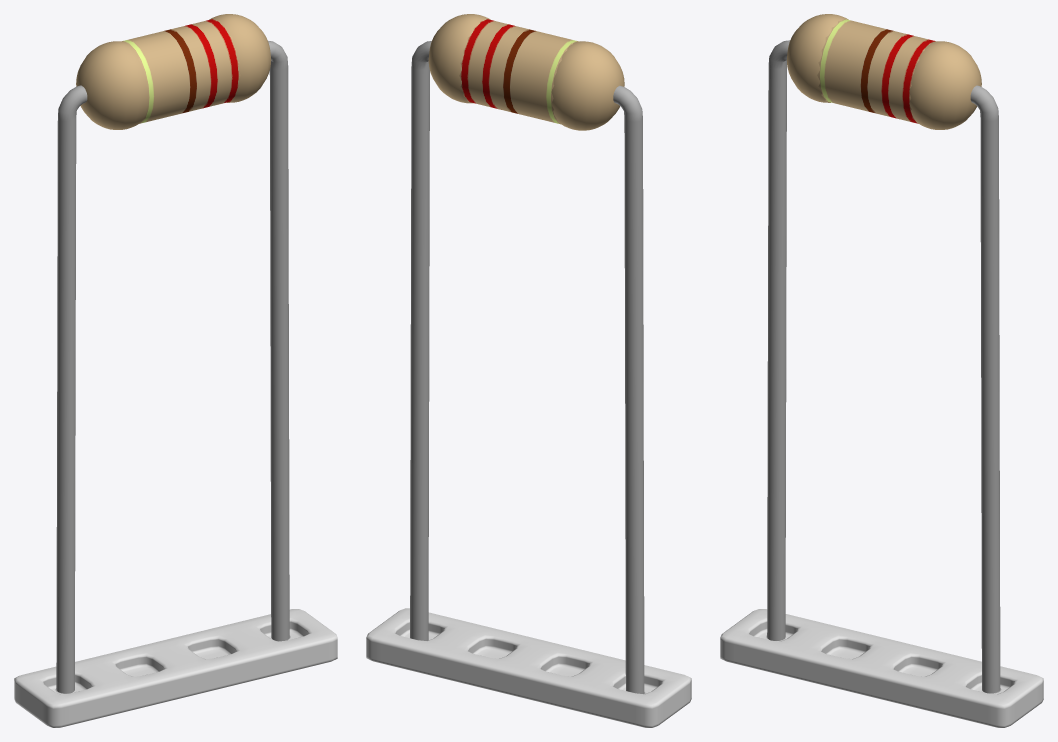
File: Res220.fbx
3 renders of one model, left to right at view 1: azimuth 30°, elevation 25°; view 2: azimuth 150°, elevation 25°; view 3: azimuth 330°, elevation 25°, orthographic.
Visible parts, largest first — view 1: ProtoboardResistencia220, Resistencia220, Pata2Resistencia, Pata1Resistencia; view 2: ProtoboardResistencia220, Resistencia220, Pata2Resistencia, Pata1Resistencia; view 3: ProtoboardResistencia220, Resistencia220, Pata1Resistencia, Pata2Resistencia.
Boxes of the visible parts, x1,y1,x2,y2 form: ProtoboardResistencia220: (14, 609, 337, 727); Resistencia220: (76, 14, 271, 129); Pata2Resistencia: (55, 85, 87, 693); Pata1Resistencia: (268, 41, 290, 641); ProtoboardResistencia220: (366, 608, 691, 727); Resistencia220: (428, 14, 624, 130); Pata2Resistencia: (613, 85, 645, 694); Pata1Resistencia: (410, 41, 431, 640); ProtoboardResistencia220: (720, 609, 1043, 727); Resistencia220: (786, 14, 981, 129); Pata1Resistencia: (970, 85, 1001, 693); Pata2Resistencia: (766, 40, 789, 640).
Size of the model in its own units: 0.18 by 0.3857 by 0.0477.
